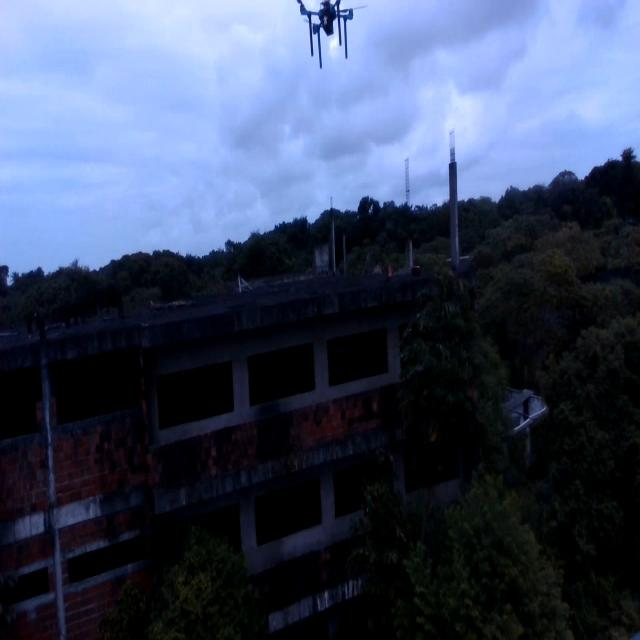-uav-: (294, 2, 373, 74)
